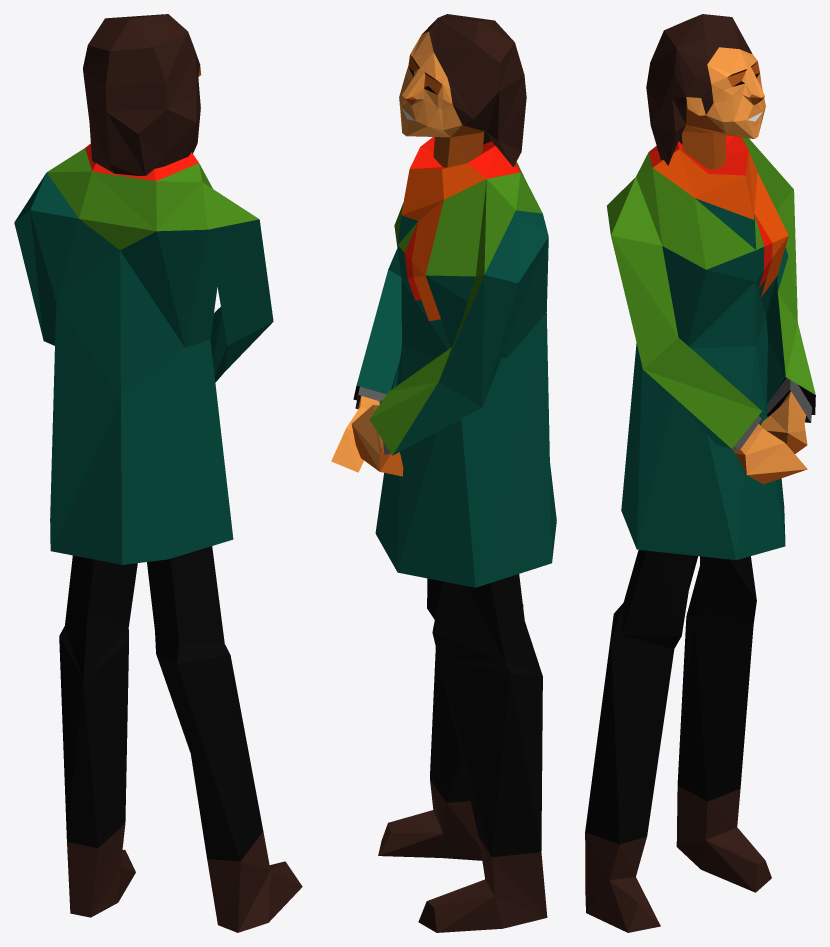
The model's file is mujer.fbx.
3 renders of one model, left to right at view 1: azimuth 30°, elevation 25°; view 2: azimuth 150°, elevation 25°; view 3: azimuth 270°, elevation 25°, orthographic. The views are drawn at different scales.
Parts seen in each view (by area): view 1: group210116395, group2120653052, group1380090552; view 2: group210116395, group2120653052, group1380090552; view 3: group210116395, group2120653052, group1380090552.
Part boxes in pixels (x1,y1,x2,y2): group210116395: (14,143,273,564); group2120653052: (59,546,302,932); group1380090552: (83,14,201,175); group210116395: (331,137,556,587); group2120653052: (378,574,547,932); group1380090552: (399,14,526,167); group210116395: (607,135,815,560); group2120653052: (585,550,771,932); group1380090552: (646,14,765,169).
Bounding box in the file's own units: 1.02 × 3.94 × 0.9536.
